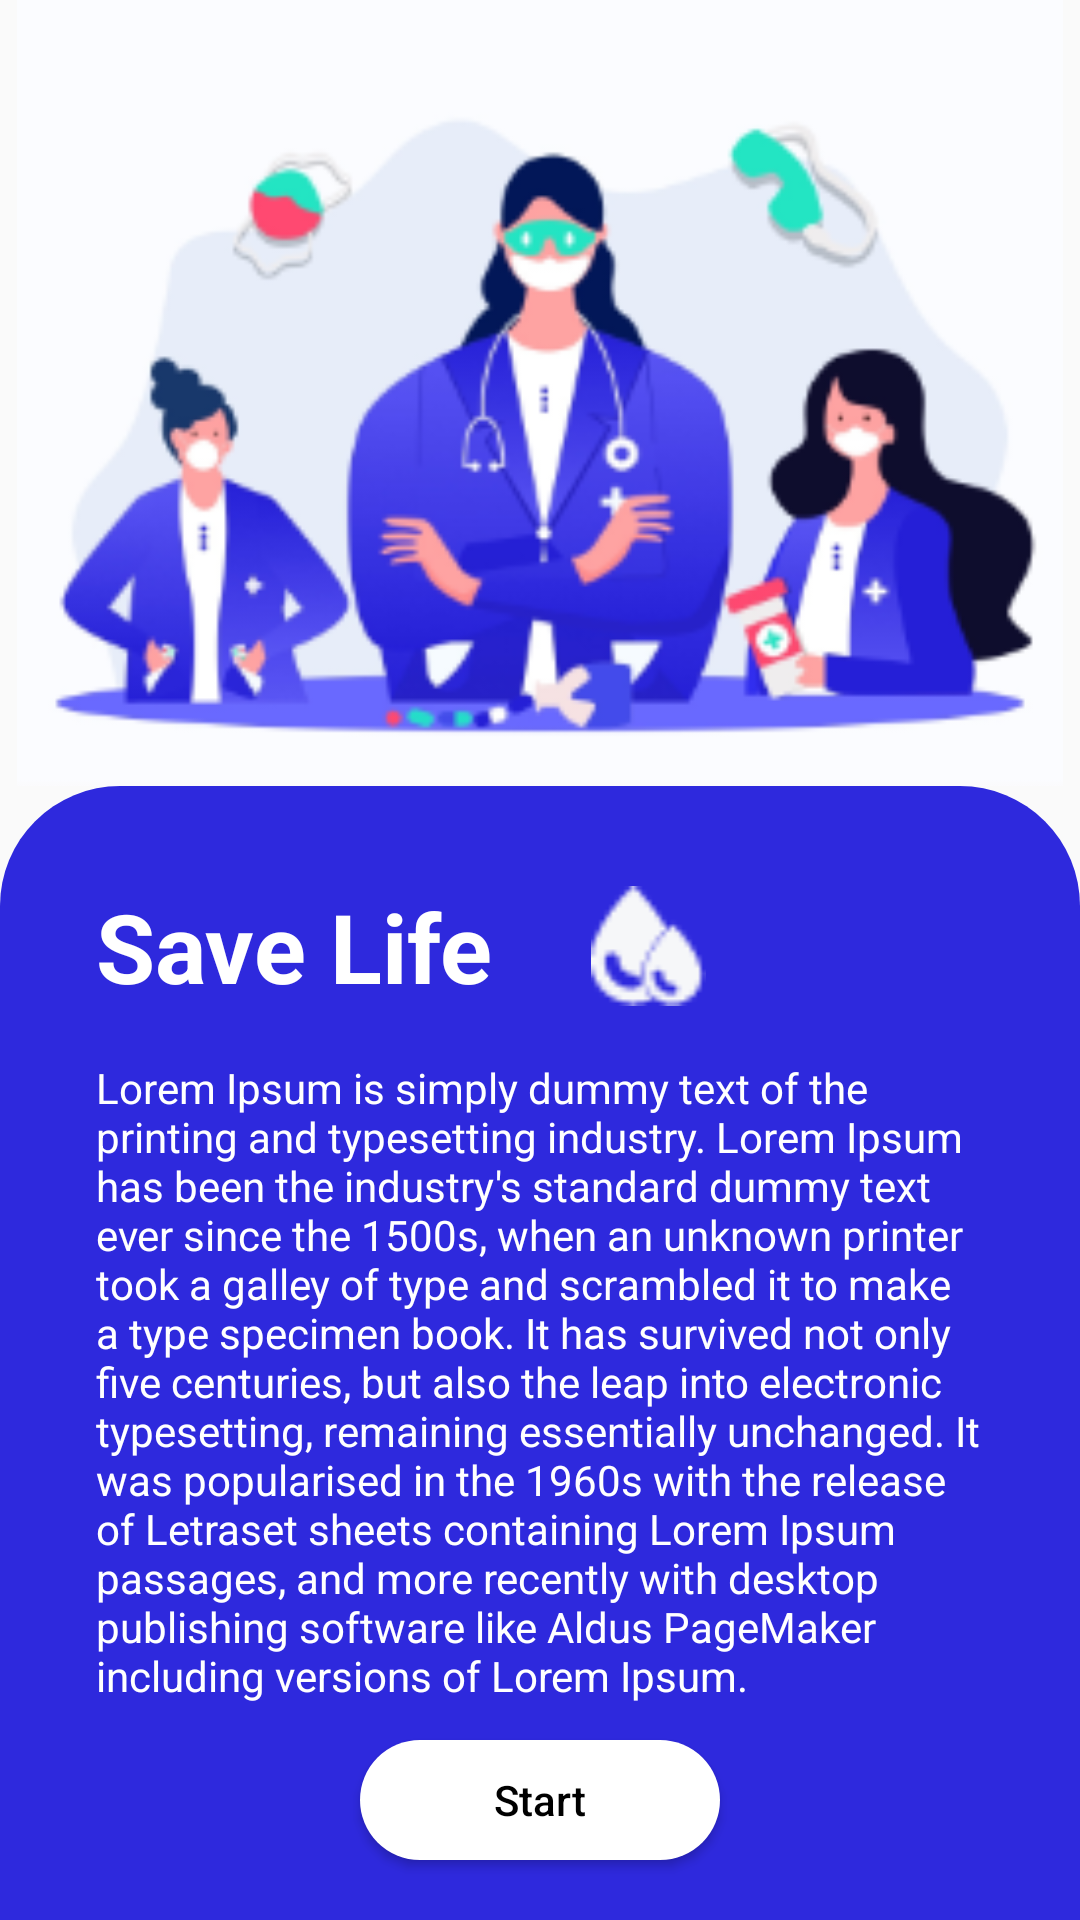

Where icons sit on this 1080px×1920px app screen, as box=[x1, y1, x2, y2]:
drop: box=[591, 886, 706, 1006]
